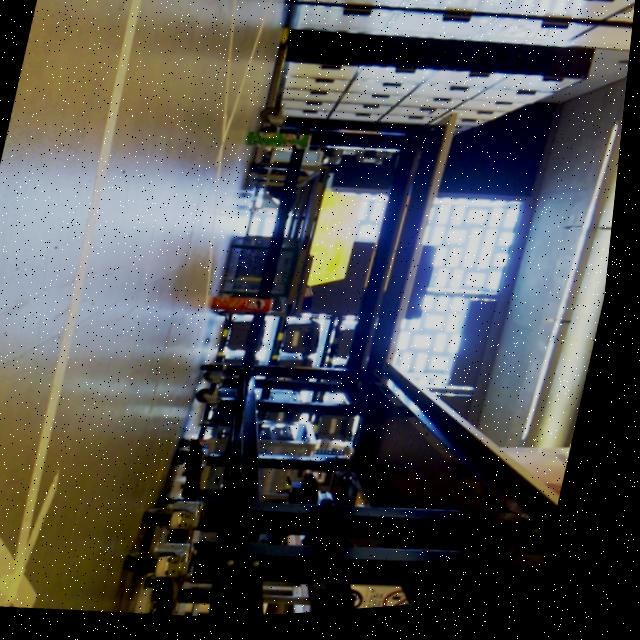greenpringles: (241, 124, 320, 166)
redpringles: (201, 275, 293, 337)
